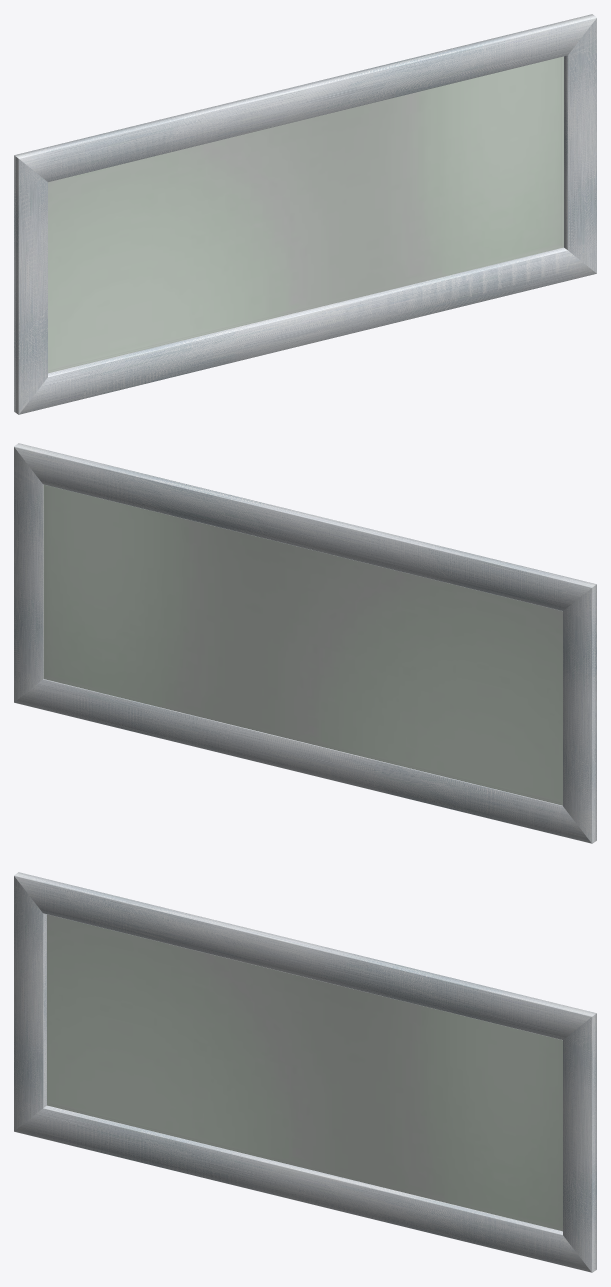
Rendered from board.dae.
3 renders of one model, top to bottom at view 1: azimuth 30°, elevation 25°; view 2: azimuth 150°, elevation 25°; view 3: azimuth 330°, elevation 25°, orthographic.
Visible parts, largest first — view 1: mesh18/mesh18-geometry#mesh18-geometry.002, RB_31_CL1/RB_31_CL/mesh21/mesh21-geometry#mesh21-geometry.00, RB_31_CR1/RB_31_CR/mesh22/mesh22-geometry#mesh22-geometry.00, RB_31_BC1/RB_31_BC/mesh20/mesh20-geometry#mesh20-geometry.00, RB_31_TC1/RB_31_TC/mesh19/mesh19-geometry#mesh19-geometry.00, RB_31_TR1/RB_31_TR/mesh14/mesh14-geometry#mesh14-geometry.00, RB_31_BR1/RB_31_BR/mesh15/mesh15-geometry#mesh15-geometry.00, RB_31_TL1/RB_31_TL/mesh13/mesh13-geometry#mesh13-geometry.00, RB_31_BL1/RB_31_BL/mesh16/mesh16-geometry#mesh16-geometry.00; view 2: mesh17/mesh17-geometry#mesh17-geometry.003, RB_31_CR1/RB_31_CR/mesh22/mesh22-geometry#mesh22-geometry.00, RB_31_CL1/RB_31_CL/mesh21/mesh21-geometry#mesh21-geometry.00, RB_31_TC1/RB_31_TC/mesh19/mesh19-geometry#mesh19-geometry.00, RB_31_BC1/RB_31_BC/mesh20/mesh20-geometry#mesh20-geometry.00, RB_31_TR1/RB_31_TR/mesh14/mesh14-geometry#mesh14-geometry.00, RB_31_BR1/RB_31_BR/mesh15/mesh15-geometry#mesh15-geometry.00, RB_31_TL1/RB_31_TL/mesh13/mesh13-geometry#mesh13-geometry.00, RB_31_BL1/RB_31_BL/mesh16/mesh16-geometry#mesh16-geometry.00; view 3: mesh18/mesh18-geometry#mesh18-geometry.002, RB_31_CL1/RB_31_CL/mesh21/mesh21-geometry#mesh21-geometry.00, RB_31_CR1/RB_31_CR/mesh22/mesh22-geometry#mesh22-geometry.00, RB_31_TC1/RB_31_TC/mesh19/mesh19-geometry#mesh19-geometry.00, RB_31_BC1/RB_31_BC/mesh20/mesh20-geometry#mesh20-geometry.00, RB_31_BR1/RB_31_BR/mesh15/mesh15-geometry#mesh15-geometry.00, RB_31_TR1/RB_31_TR/mesh14/mesh14-geometry#mesh14-geometry.00, RB_31_BL1/RB_31_BL/mesh16/mesh16-geometry#mesh16-geometry.00, RB_31_TL1/RB_31_TL/mesh13/mesh13-geometry#mesh13-geometry.00.
Boxes of the visible parts, x1,y1,x2,y2 form: mesh18/mesh18-geometry#mesh18-geometry.002: (48, 57, 561, 371); RB_31_CL1/RB_31_CL/mesh21/mesh21-geometry#mesh21-geometry.00: (48, 246, 565, 406); RB_31_CR1/RB_31_CR/mesh22/mesh22-geometry#mesh22-geometry.00: (45, 22, 565, 181); RB_31_BC1/RB_31_BC/mesh20/mesh20-geometry#mesh20-geometry.00: (562, 50, 596, 247); RB_31_TC1/RB_31_TC/mesh19/mesh19-geometry#mesh19-geometry.00: (14, 184, 47, 381); RB_31_TR1/RB_31_TR/mesh14/mesh14-geometry#mesh14-geometry.00: (14, 147, 49, 191); RB_31_BR1/RB_31_BR/mesh15/mesh15-geometry#mesh15-geometry.00: (561, 14, 596, 57); RB_31_TL1/RB_31_TL/mesh13/mesh13-geometry#mesh13-geometry.00: (14, 375, 49, 414); RB_31_BL1/RB_31_BL/mesh16/mesh16-geometry#mesh16-geometry.00: (562, 241, 596, 281); mesh17/mesh17-geometry#mesh17-geometry.003: (45, 487, 560, 802); RB_31_CR1/RB_31_CR/mesh22/mesh22-geometry#mesh22-geometry.00: (45, 451, 565, 612); RB_31_CL1/RB_31_CL/mesh21/mesh21-geometry#mesh21-geometry.00: (45, 677, 560, 835); RB_31_TC1/RB_31_TC/mesh19/mesh19-geometry#mesh19-geometry.00: (561, 612, 596, 810); RB_31_BC1/RB_31_BC/mesh20/mesh20-geometry#mesh20-geometry.00: (14, 479, 45, 677); RB_31_TR1/RB_31_TR/mesh14/mesh14-geometry#mesh14-geometry.00: (561, 576, 596, 620); RB_31_BR1/RB_31_BR/mesh15/mesh15-geometry#mesh15-geometry.00: (14, 443, 49, 486); RB_31_TL1/RB_31_TL/mesh13/mesh13-geometry#mesh13-geometry.00: (561, 803, 596, 843); RB_31_BL1/RB_31_BL/mesh16/mesh16-geometry#mesh16-geometry.00: (14, 670, 45, 710); mesh18/mesh18-geometry#mesh18-geometry.002: (49, 915, 562, 1229); RB_31_CL1/RB_31_CL/mesh21/mesh21-geometry#mesh21-geometry.00: (45, 1104, 562, 1264); RB_31_CR1/RB_31_CR/mesh22/mesh22-geometry#mesh22-geometry.00: (45, 880, 565, 1039); RB_31_TC1/RB_31_TC/mesh19/mesh19-geometry#mesh19-geometry.00: (14, 908, 48, 1105); RB_31_BC1/RB_31_BC/mesh20/mesh20-geometry#mesh20-geometry.00: (563, 1042, 596, 1239); RB_31_BR1/RB_31_BR/mesh15/mesh15-geometry#mesh15-geometry.00: (561, 1005, 596, 1049); RB_31_TR1/RB_31_TR/mesh14/mesh14-geometry#mesh14-geometry.00: (14, 872, 49, 915); RB_31_BL1/RB_31_BL/mesh16/mesh16-geometry#mesh16-geometry.00: (561, 1233, 596, 1272); RB_31_TL1/RB_31_TL/mesh13/mesh13-geometry#mesh13-geometry.00: (14, 1099, 48, 1139).
Bounding box in the file's own units: 1.6 × 0.0235 × 0.6758.
26 materials, 18 textured.
